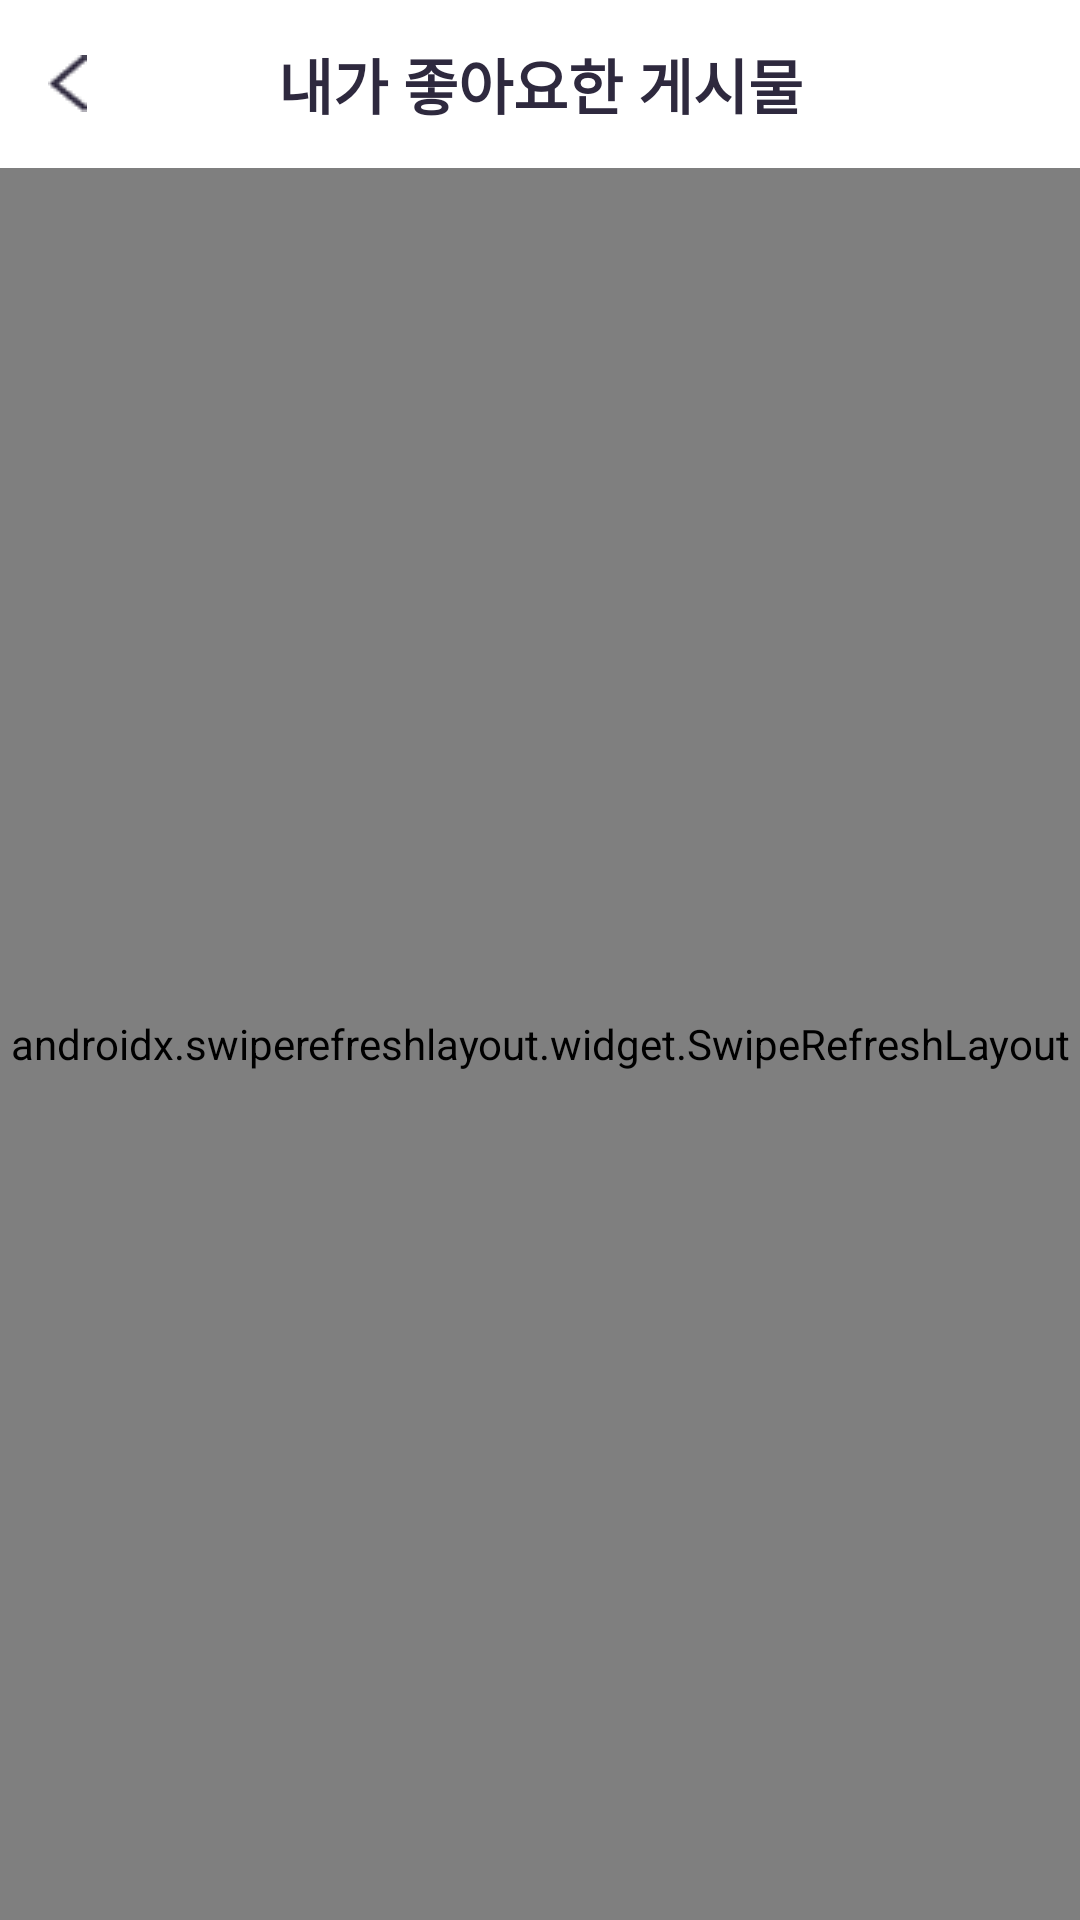

Locate icon controls on the screen. Image size 1080w x 1920h, boxes as (x1,y1,x2,y2).
backbutton: (48,55,87,112)
